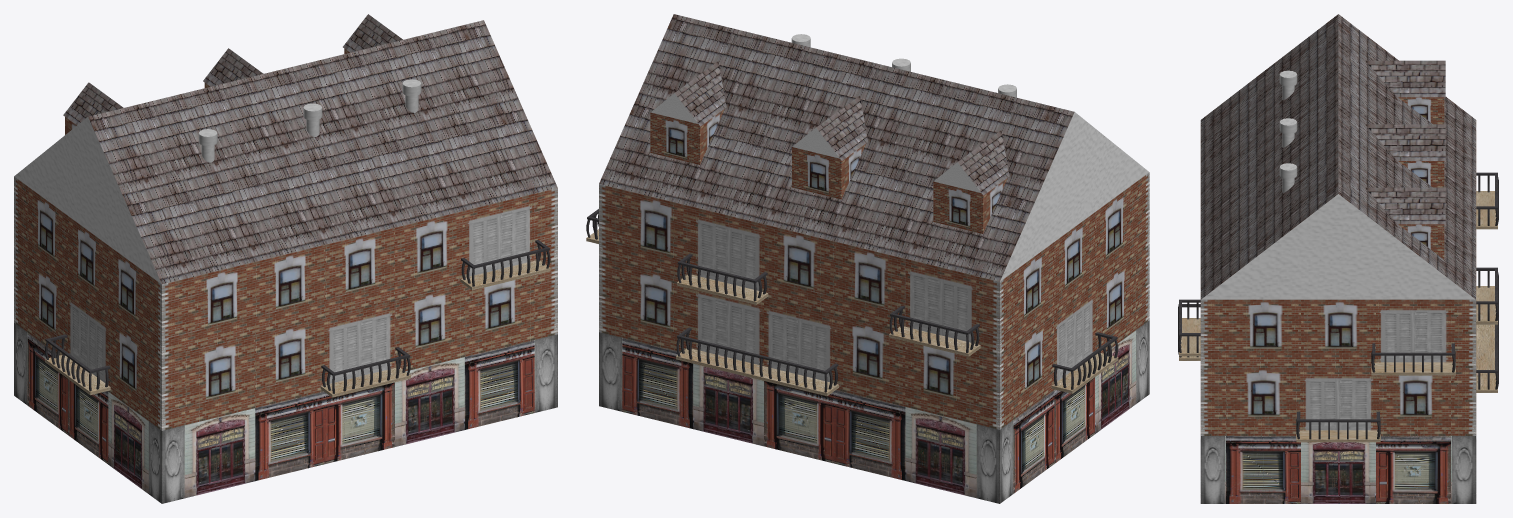
File: House_004.dae
3 renders of one model, left to right at view 1: azimuth 30°, elevation 25°; view 2: azimuth 150°, elevation 25°; view 3: azimuth 270°, elevation 25°, orthographic. The views are drawn at different scales.
Visible parts, largest first — view 1: House_004; view 2: House_004; view 3: House_004.
Part boxes in pixels (x1=…): House_004: x1=14, y1=14, x2=557, y2=503; House_004: x1=586, y1=14, x2=1149, y2=503; House_004: x1=1178, y1=14, x2=1498, y2=503.
Bounding box in the file's own units: 152 × 103 × 109.
